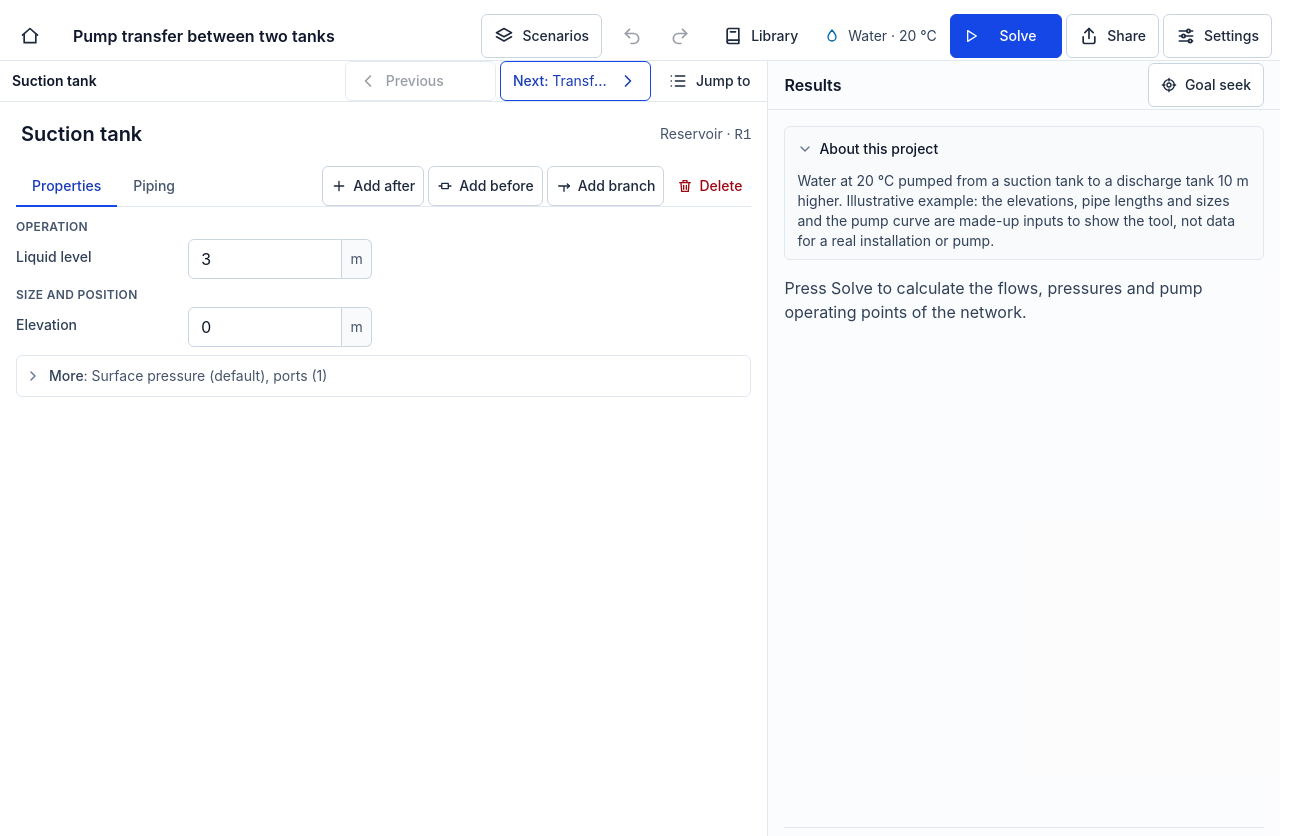
it: results state › after a failed solve of the same project, says the results are from the previous solve
What coordinates should you click on to do the following:
click the button "Solve"
I would click on:
 (1006, 36)
Its box is [950, 14, 1062, 58].
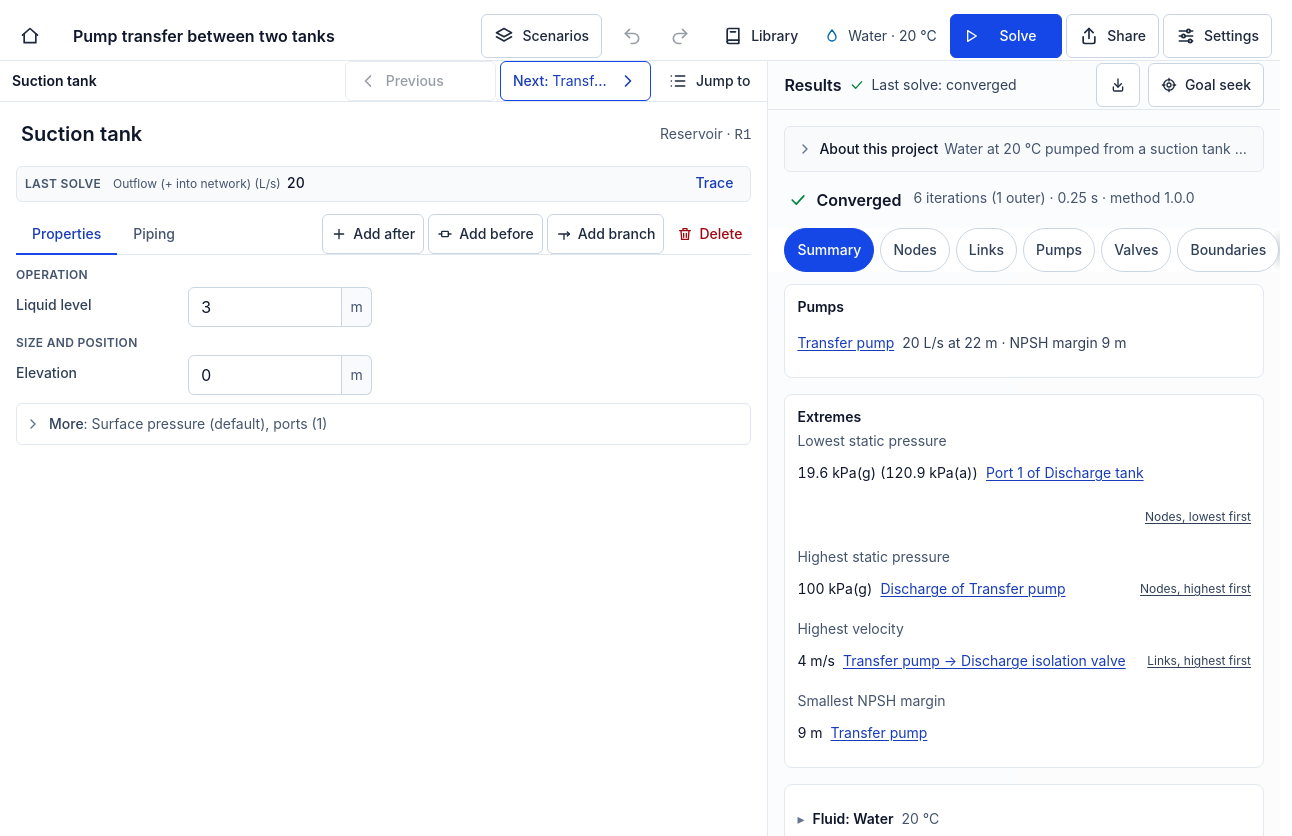
What coordinates should you click on to do the following:
click the button "Solve"
I would click on:
 (1006, 36)
Its box is [950, 14, 1062, 58].
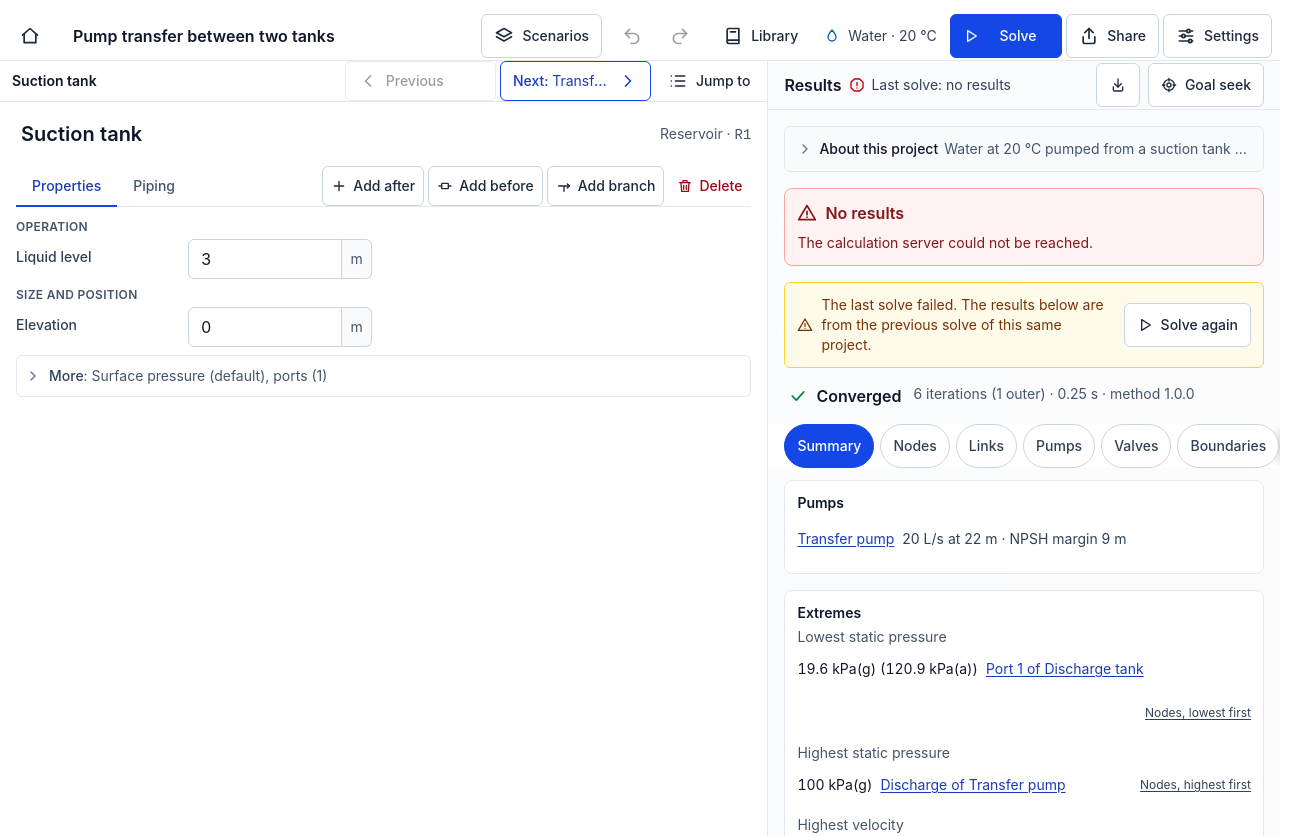
Now the text "The calculation server could not be reached." is shown, box [797, 234, 1093, 251]
Now the text "The last solve failed. The results below are from the previous solve of this same project." is shown, box [821, 296, 1104, 353]
